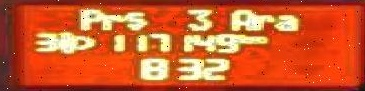1: (107, 32, 125, 52), (131, 31, 145, 52), (178, 32, 191, 51)
2: (201, 55, 232, 81)
3: (183, 6, 214, 31), (174, 55, 200, 81), (29, 31, 58, 52)
4: (192, 32, 212, 52)
7: (145, 30, 171, 51)
8: (134, 55, 169, 80)
9: (211, 32, 238, 52)
X: (225, 7, 254, 31), (76, 6, 100, 31), (122, 9, 147, 30), (274, 12, 298, 31), (101, 12, 123, 31), (252, 12, 274, 31), (249, 34, 267, 44), (238, 32, 251, 43)
